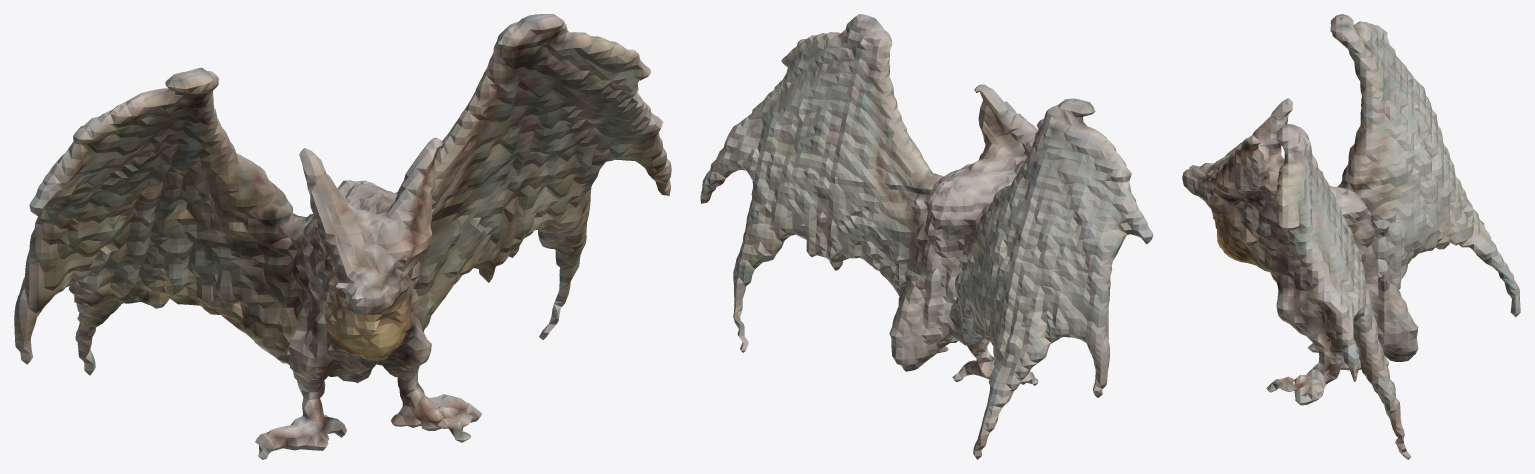
File: bat.glb
3 views of the same model, side by side, from view 1: azimuth 30°, elevation 25°; view 2: azimuth 150°, elevation 25°; view 3: azimuth 270°, elevation 25° (orthographic). The views are drawn at different scales.
Parts seen in each view (by area): view 1: geometry_0; view 2: geometry_0; view 3: geometry_0.
Boxes of the visible parts, x1,y1,x2,y2 form: geometry_0: (14,14,671,459); geometry_0: (700,14,1153,459); geometry_0: (1182,14,1520,459).
Size of the model in its own units: 1.04 by 0.6519 by 0.6612.
